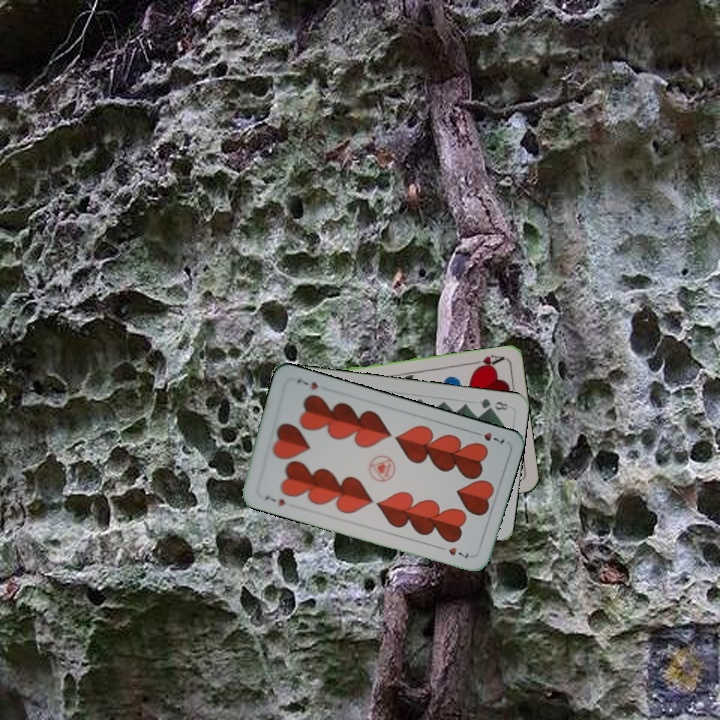G8: (476, 394, 511, 413)
H7: (468, 427, 507, 446), (260, 491, 288, 509)
HA: (466, 351, 507, 372)
